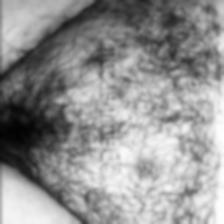Non-Cancerous Skin Condition: (134, 159, 154, 177), (210, 59, 222, 85), (206, 22, 219, 36)
